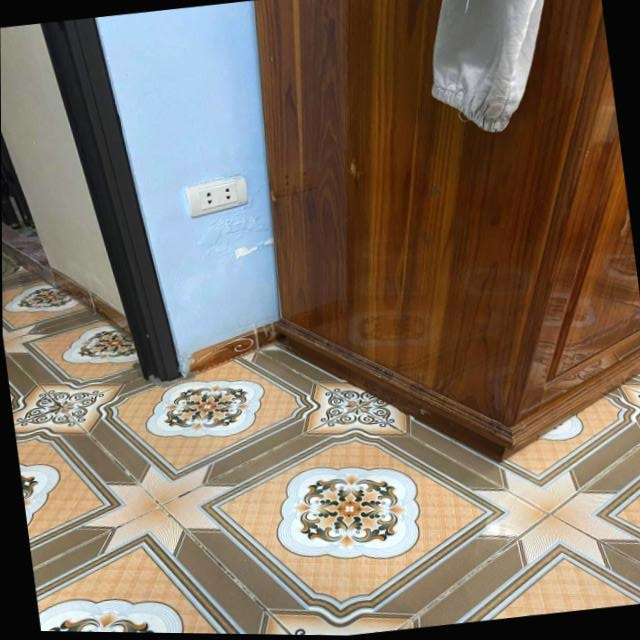outlet: (185, 173, 252, 219)
